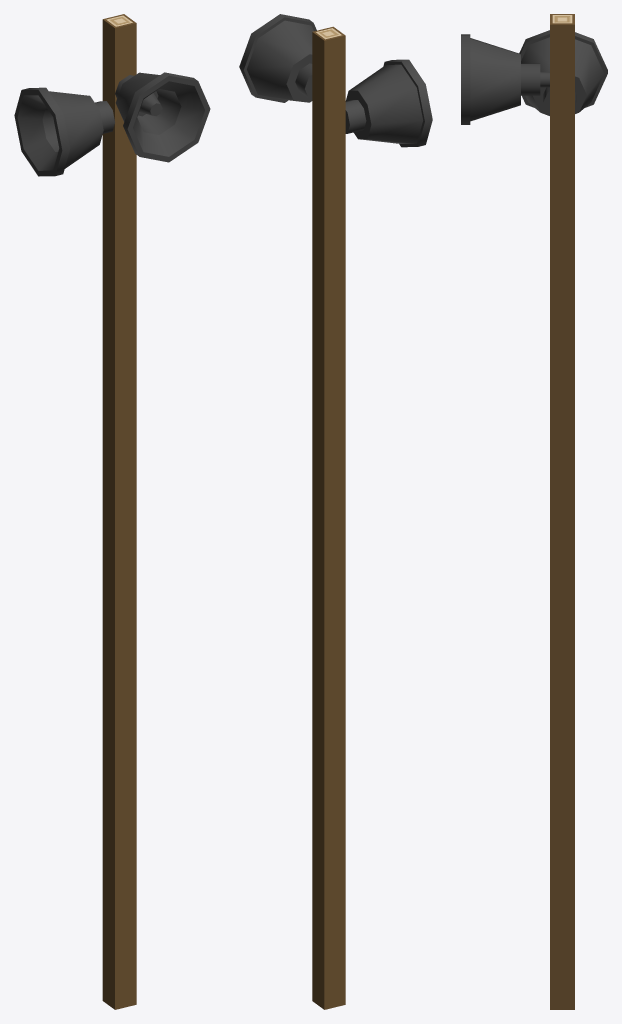
Rendered from Siren_pole.FBX.
3 renders of one model, left to right at view 1: azimuth 30°, elevation 25°; view 2: azimuth 210°, elevation 25°; view 3: azimuth 270°, elevation 25°, orthographic.
Parts seen in each view (by area): view 1: siren_pole; view 2: siren_pole; view 3: siren_pole.
Part boxes in pixels (bbox=[...]): siren_pole: bbox=[14, 14, 210, 1009]; siren_pole: bbox=[239, 14, 432, 1009]; siren_pole: bbox=[461, 14, 607, 1009].
Size of the model in its own units: 0.5234 by 3.99 by 0.539.
Materials: 1 (1 with a texture image).
